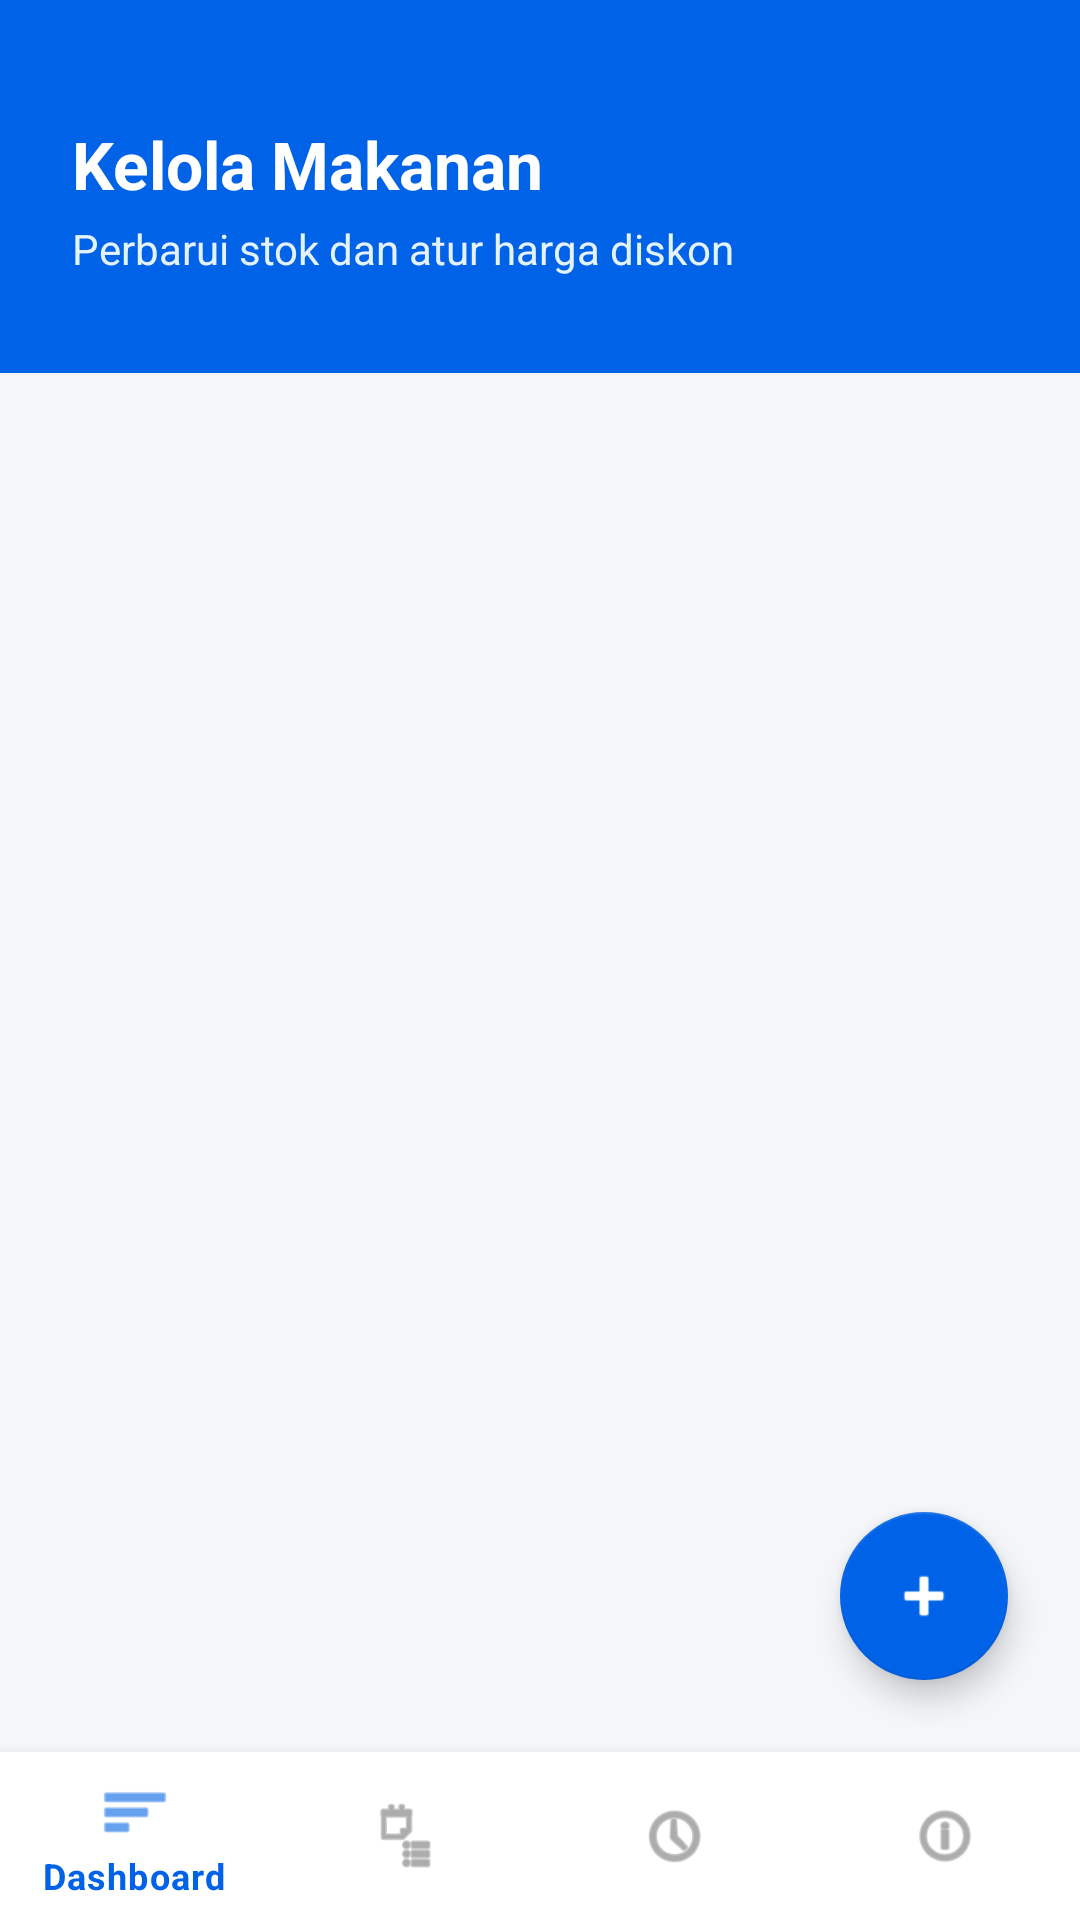

Named icons in this screenshot (1080*1920) and their bounding boxes, (x1, y1, x2, y2):
Tambah Makanan: (840, 1512, 1008, 1680)
